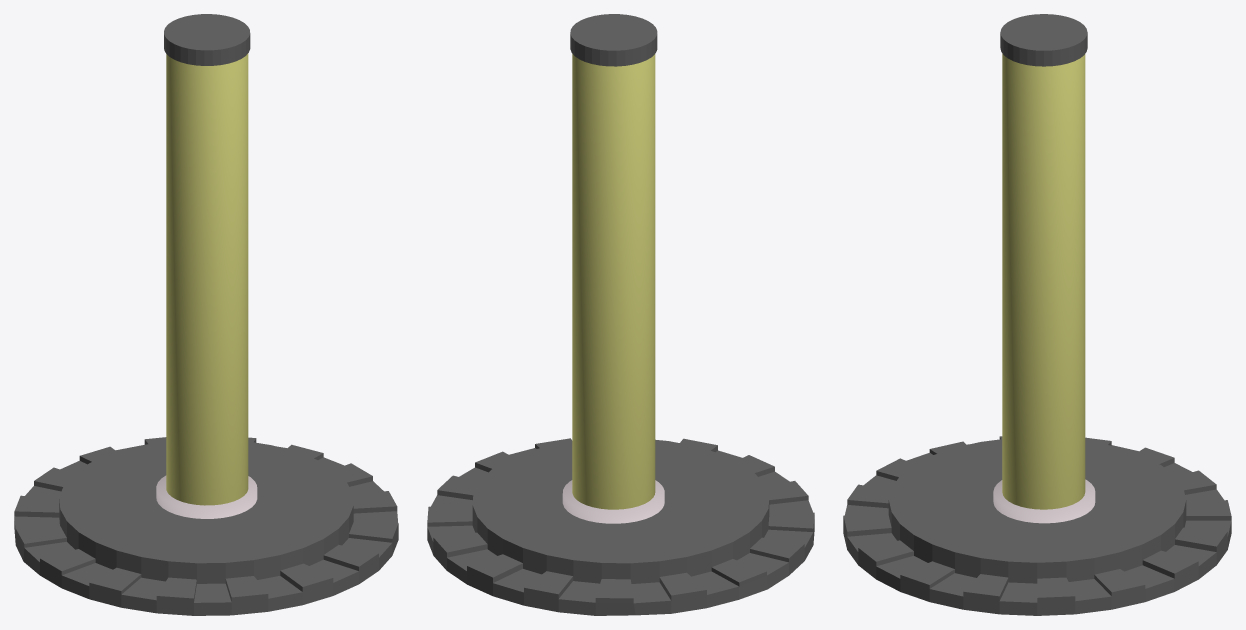
Rendered from Column.glb.
The picture shows the model from 3 angles, left to right: view 1: azimuth 30°, elevation 25°; view 2: azimuth 150°, elevation 25°; view 3: azimuth 270°, elevation 25°; orthographic projection.
Visible parts, largest first — view 1: Cylinder, Cylinder.001, Cylinder.002, Cylinder.003; view 2: Cylinder, Cylinder.001, Cylinder.002, Cylinder.003; view 3: Cylinder, Cylinder.001, Cylinder.002, Cylinder.003.
Boxes of the visible parts, left/top/right/bottom form: Cylinder: left=14, top=437, right=398, bottom=615; Cylinder.001: left=166, top=53, right=248, bottom=505; Cylinder.002: left=164, top=14, right=250, bottom=65; Cylinder.003: left=156, top=475, right=257, bottom=518; Cylinder: left=427, top=438, right=814, bottom=615; Cylinder.001: left=572, top=54, right=655, bottom=509; Cylinder.002: left=570, top=14, right=657, bottom=66; Cylinder.003: left=562, top=480, right=664, bottom=523; Cylinder: left=843, top=436, right=1231, bottom=615; Cylinder.001: left=1002, top=53, right=1085, bottom=509; Cylinder.002: left=1000, top=14, right=1087, bottom=66; Cylinder.003: left=993, top=479, right=1095, bottom=523.
Size of the model in its own units: 4.03 by 5.81 by 4.03.
